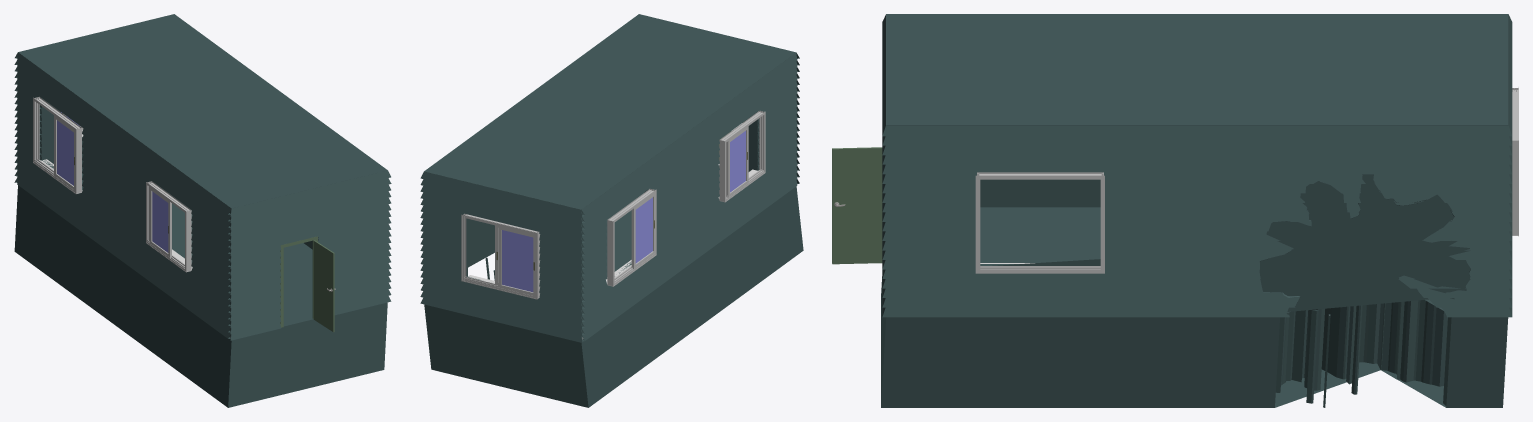
File: House_Rukmaksii_3_final.fbx
3 views of the same model, side by side, from view 1: azimuth 30°, elevation 25°; view 2: azimuth 150°, elevation 25°; view 3: azimuth 270°, elevation 25° (orthographic). The views are drawn at different scales.
Visible parts, largest first — view 1: Wall_cover, Ceiling, Floor, Room, Door, WindowFrame.001, Window.R, Window.R.001, WindowFrame, DoorFrame; view 2: Wall_cover, Ceiling, Floor, Room, Window.R.002, Window.R.001, WindowFrame.002, WindowFrame, Window.R, WindowFrame.001; view 3: Wall_cover, Ceiling, Floor, Room, Door, WindowFrame.003, WindowFrame.002.
Part boxes in pixels (left/top/right/bottom): Wall_cover: left=14, top=18, right=391, bottom=340; Ceiling: left=20, top=14, right=387, bottom=208; Floor: left=14, top=169, right=387, bottom=407; Room: left=18, top=14, right=387, bottom=337; Door: left=313, top=240, right=334, bottom=332; WindowFrame.001: left=33, top=97, right=81, bottom=194; Window.R: left=149, top=187, right=171, bottom=258; Window.R.001: left=54, top=115, right=74, bottom=190; WindowFrame: left=146, top=181, right=191, bottom=272; DoorFrame: left=280, top=236, right=317, bottom=327; Wall_cover: left=420, top=14, right=799, bottom=342; Ceiling: left=424, top=14, right=794, bottom=209; Floor: left=424, top=165, right=803, bottom=407; Room: left=424, top=14, right=795, bottom=340; Window.R.002: left=498, top=226, right=534, bottom=296; Window.R.001: left=631, top=193, right=654, bottom=269; WindowFrame.002: left=461, top=213, right=540, bottom=299; WindowFrame: left=719, top=110, right=765, bottom=202; Window.R: left=726, top=126, right=748, bottom=197; WindowFrame.001: left=607, top=188, right=656, bottom=286; Wall_cover: left=882, top=14, right=1512, bottom=317; Ceiling: left=886, top=14, right=1508, bottom=124; Floor: left=881, top=207, right=1508, bottom=407; Room: left=886, top=14, right=1508, bottom=315; Door: left=832, top=147, right=882, bottom=264; WindowFrame.003: left=975, top=172, right=1104, bottom=273; WindowFrame.002: left=1512, top=87, right=1518, bottom=236.
Bounding box in the file's own units: 554 × 604 × 1307.
